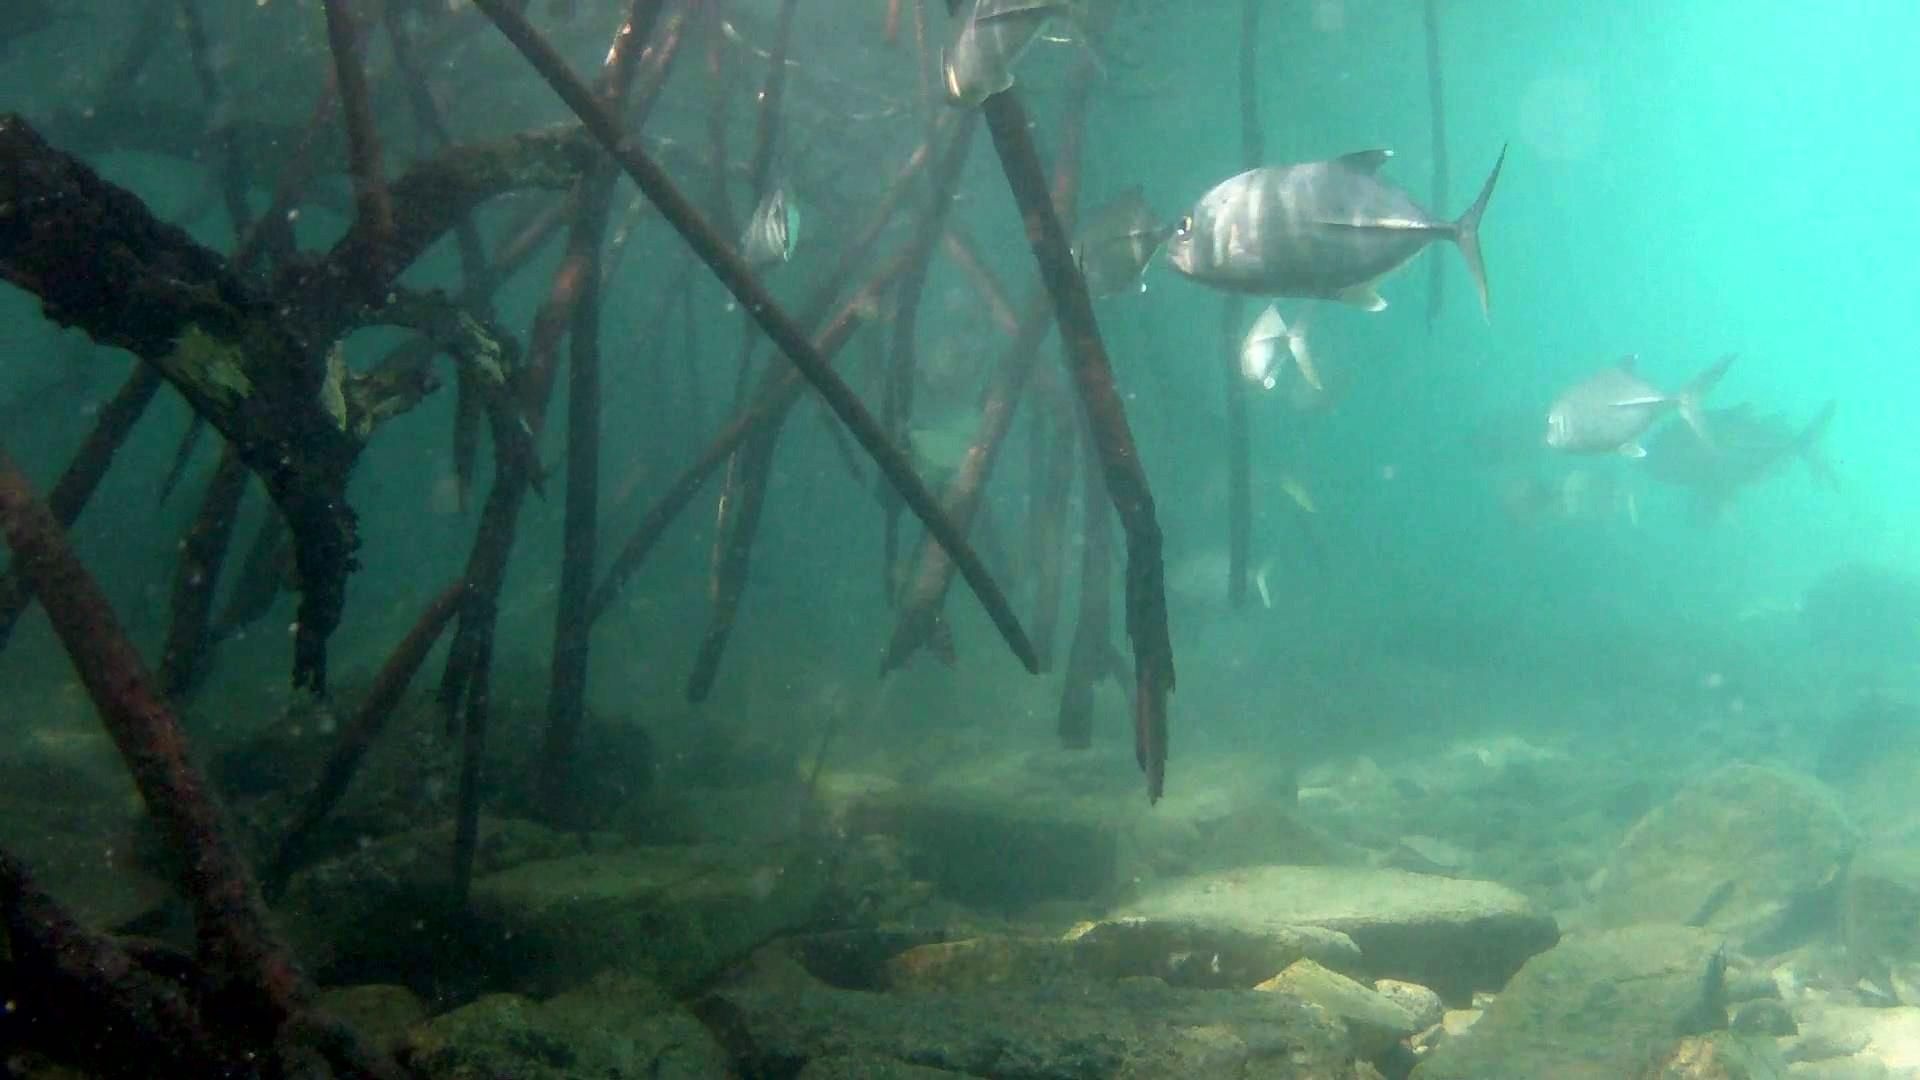caranx: (1155, 123, 1514, 313)
